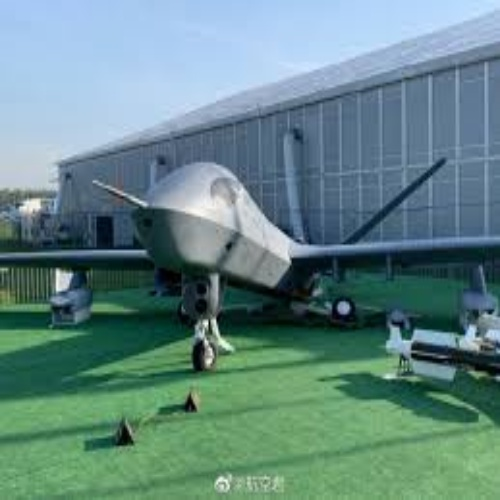uav170: (4, 164, 500, 371)
